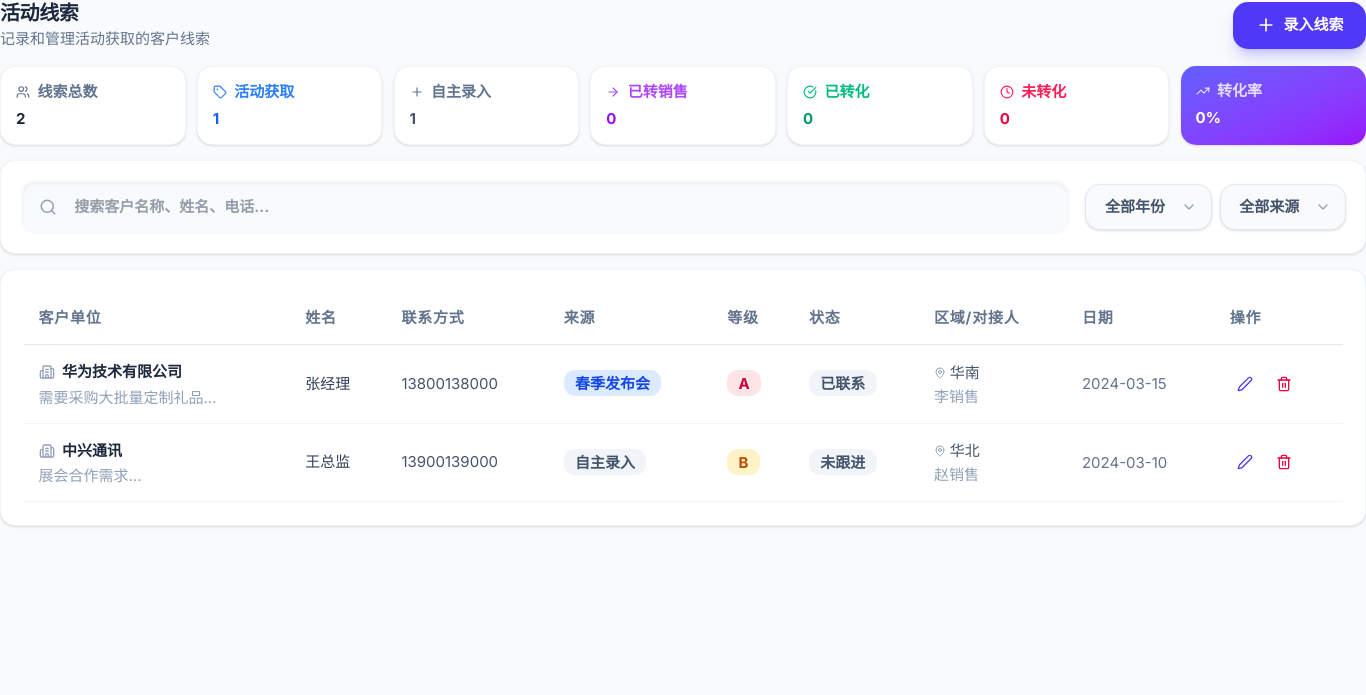
Test case: 商机管理页面交互测试 › 新建商机按钮交互 › 点击录入线索应打开表单弹窗
Step 1. Click the button "录入线索" → (1300, 25), box [1234,2,1365,49]
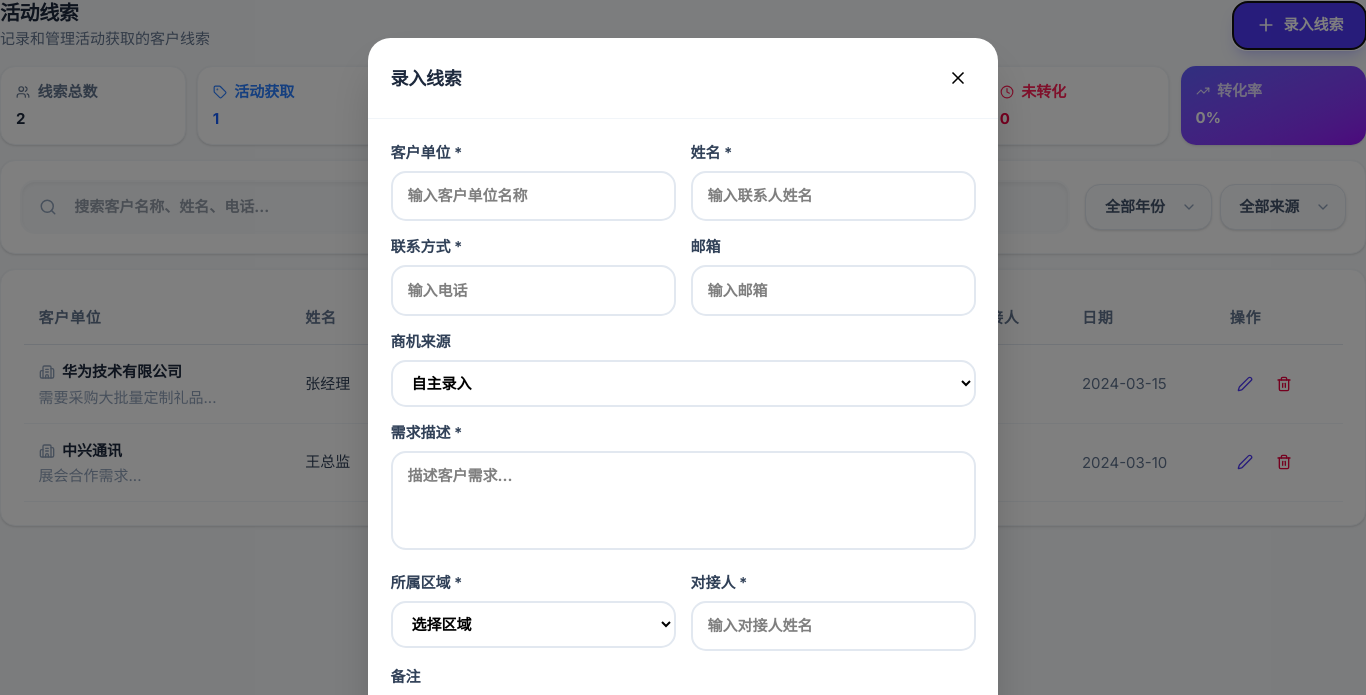
Expected: the heading "录入线索" is shown, [390,66,461,91]
